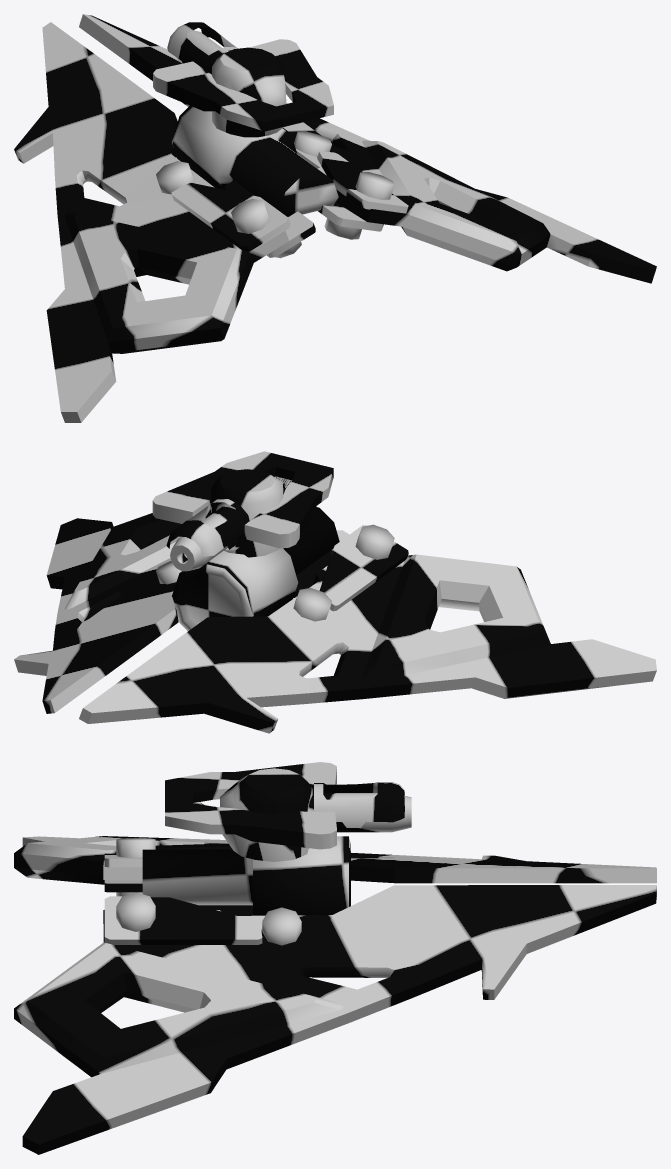
The model's file is pet_chimera.obj.
3 renders of one model, top to bottom at view 1: azimuth 30°, elevation 25°; view 2: azimuth 150°, elevation 25°; view 3: azimuth 270°, elevation 25°, orthographic. The views are drawn at different scales.
Visible parts, largest first — view 1: pet_low_poly; view 2: pet_low_poly; view 3: pet_low_poly.
Boxes of the visible parts, <box> form: pet_low_poly: <box>14,14,656,422</box>; pet_low_poly: <box>14,451,656,733</box>; pet_low_poly: <box>14,762,656,1154</box>.
Size of the model in its own units: 129 by 43.32 by 113.
Materials: 1 (1 with a texture image).
